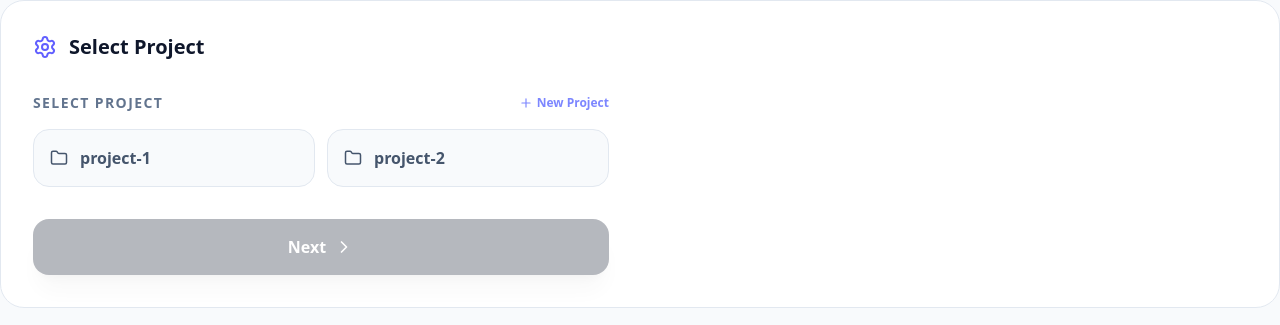
Test case: ProjectNameStep › toggles new project creation mode
Click the button "New Project" at (564, 103), box x1=519 y1=95 x2=609 y2=111
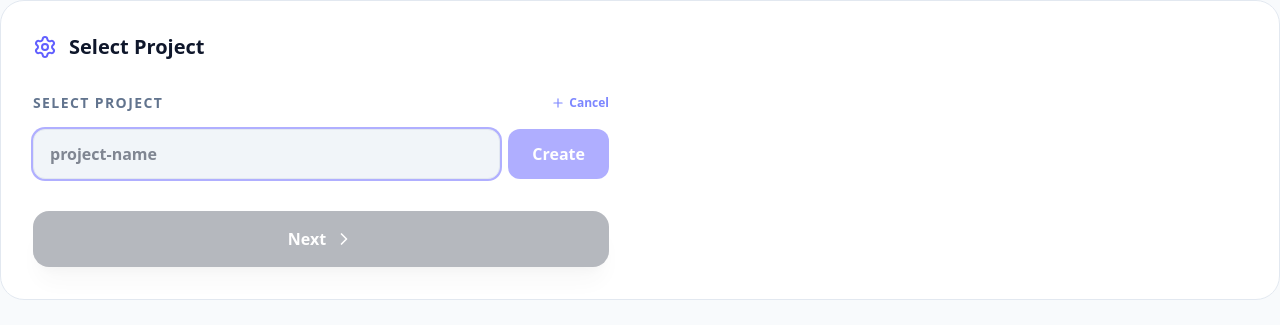
Result: the field with placeholder "project-name" is shown at x1=33 y1=129 x2=500 y2=179
Result: the button "Cancel" is shown
Click the button "Cancel" at (580, 103), box x1=551 y1=95 x2=609 y2=111
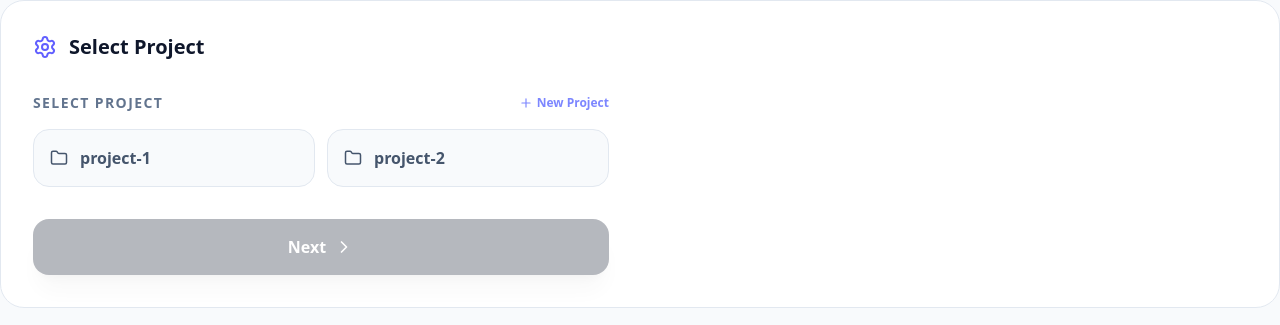
Result: the field with placeholder "project-name" is gone
